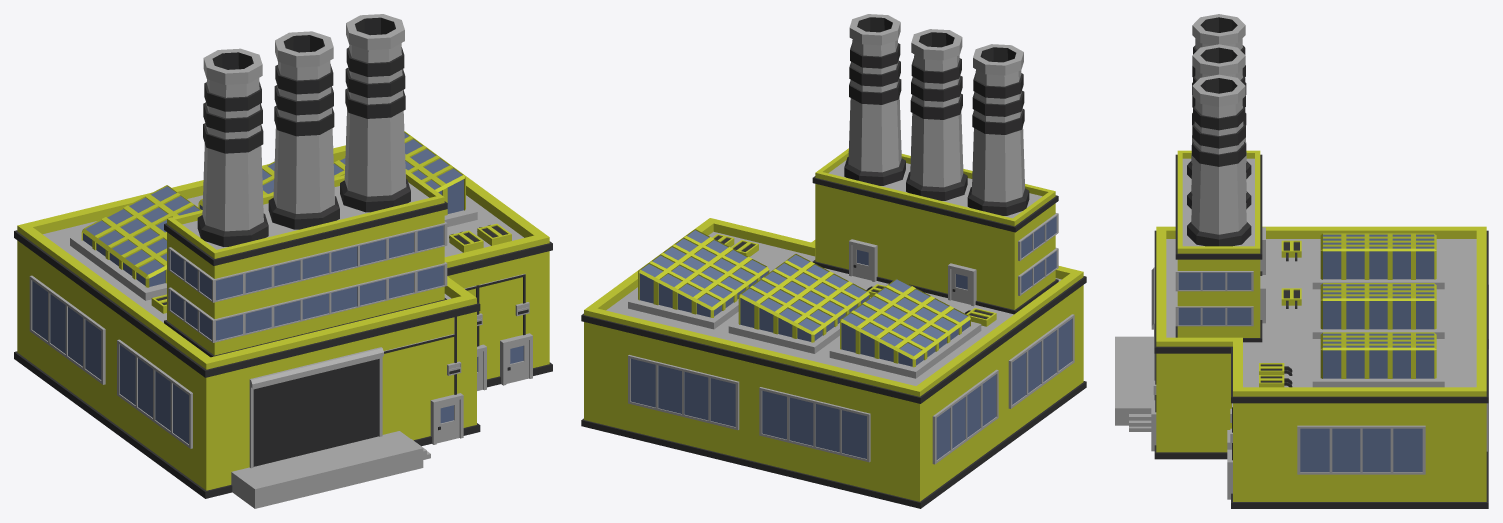
File: Factory2_1.fbx
3 renders of one model, left to right at view 1: azimuth 30°, elevation 25°; view 2: azimuth 150°, elevation 25°; view 3: azimuth 270°, elevation 25°, orthographic. The views are drawn at different scales.
Parts seen in each view (by area): view 1: Factory2; view 2: Factory2; view 3: Factory2.
Part boxes in pixels (x1,y1,x2,y2): Factory2: (14,14,552,508); Factory2: (581,14,1086,508); Factory2: (1115,14,1488,508).
Size of the model in its own units: 1446 by 1391 by 1368.
